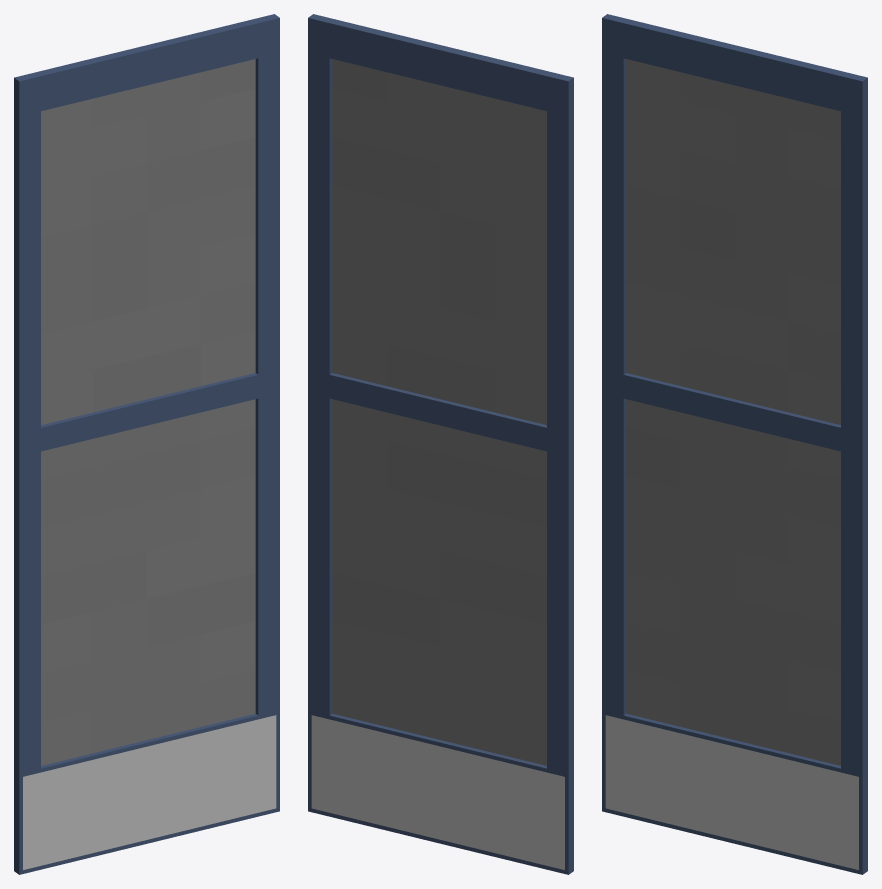
Rendered from SW_corridor__R_lobby_R_Aula_Ovi_019.FBX.
3 views of the same model, side by side, from view 1: azimuth 30°, elevation 25°; view 2: azimuth 150°, elevation 25°; view 3: azimuth 330°, elevation 25° (orthographic).
Visible parts, largest first — view 1: SW_corridor__R_lobby_R_Aula_Ovi_019; view 2: SW_corridor__R_lobby_R_Aula_Ovi_019; view 3: SW_corridor__R_lobby_R_Aula_Ovi_019.
Part boxes in pixels (x1,y1,x2,y2): SW_corridor__R_lobby_R_Aula_Ovi_019: (14, 14, 279, 874); SW_corridor__R_lobby_R_Aula_Ovi_019: (308, 14, 573, 874); SW_corridor__R_lobby_R_Aula_Ovi_019: (602, 14, 867, 874).
Size of the model in its own units: 70.48 by 2.51 by 205.
